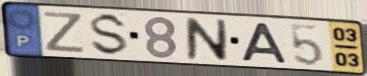5: (288, 22, 327, 68)
8: (142, 15, 179, 60)
A: (239, 21, 291, 65)
N: (184, 16, 230, 63)
S: (88, 12, 131, 58)
Z: (41, 9, 87, 54)
